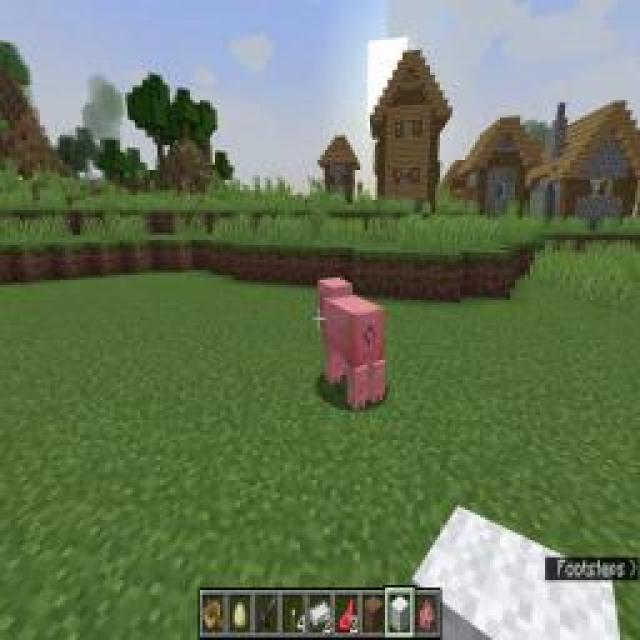Pig: (316, 272, 389, 412)
